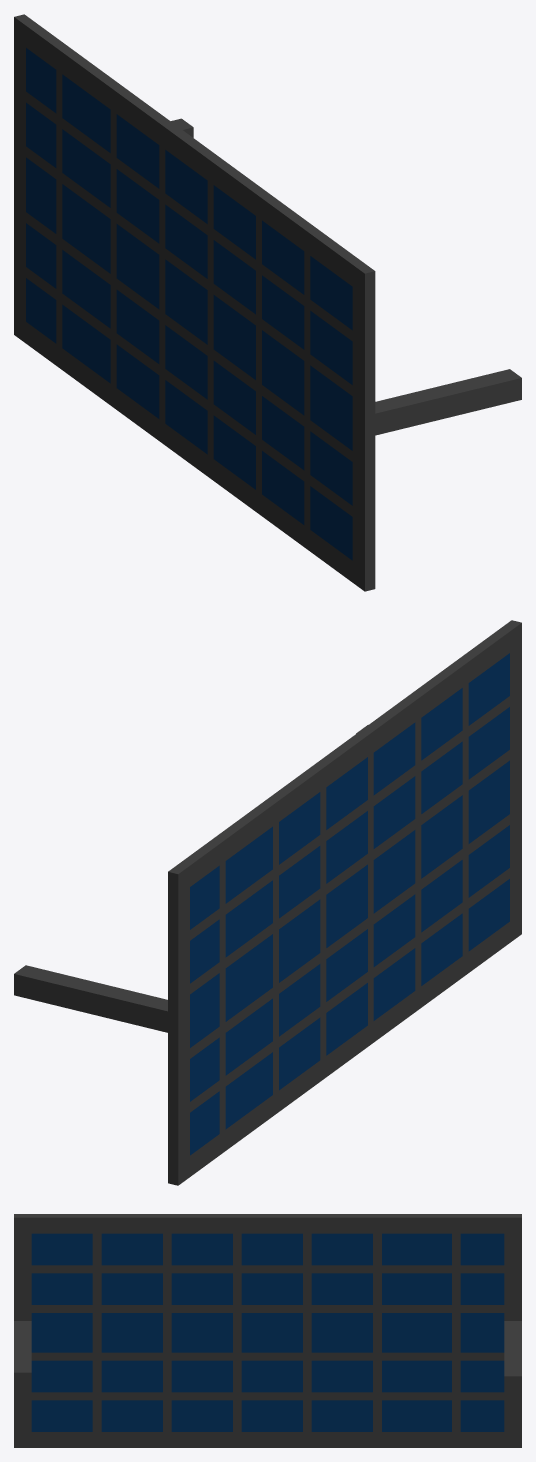
Rendered from solarPanel3.FBX.
The picture shows the model from 3 angles, top to bottom: view 1: azimuth 30°, elevation 25°; view 2: azimuth 150°, elevation 25°; view 3: azimuth 270°, elevation 25°; orthographic projection. The views are drawn at different scales.
Visible parts, largest first — view 1: default; view 2: default; view 3: default.
Part boxes in pixels (box(x1,y1,x2,y2)): default: box(14, 14, 521, 591); default: box(14, 620, 521, 1185); default: box(14, 1214, 521, 1447).
Size of the model in its own units: 16 by 58 by 29.
1 material, 1 textured.
